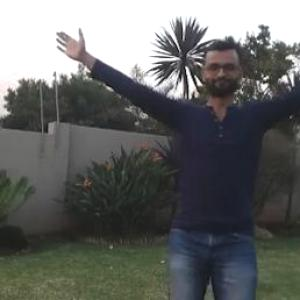takeoff: (68, 30, 299, 299)
